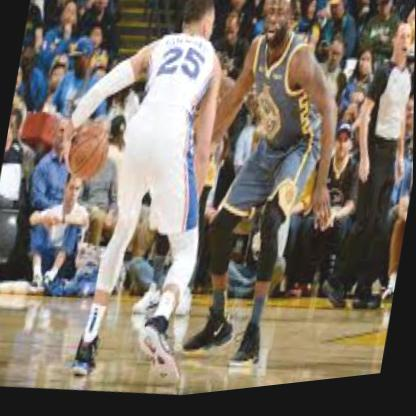basketball: (65, 120, 113, 187)
